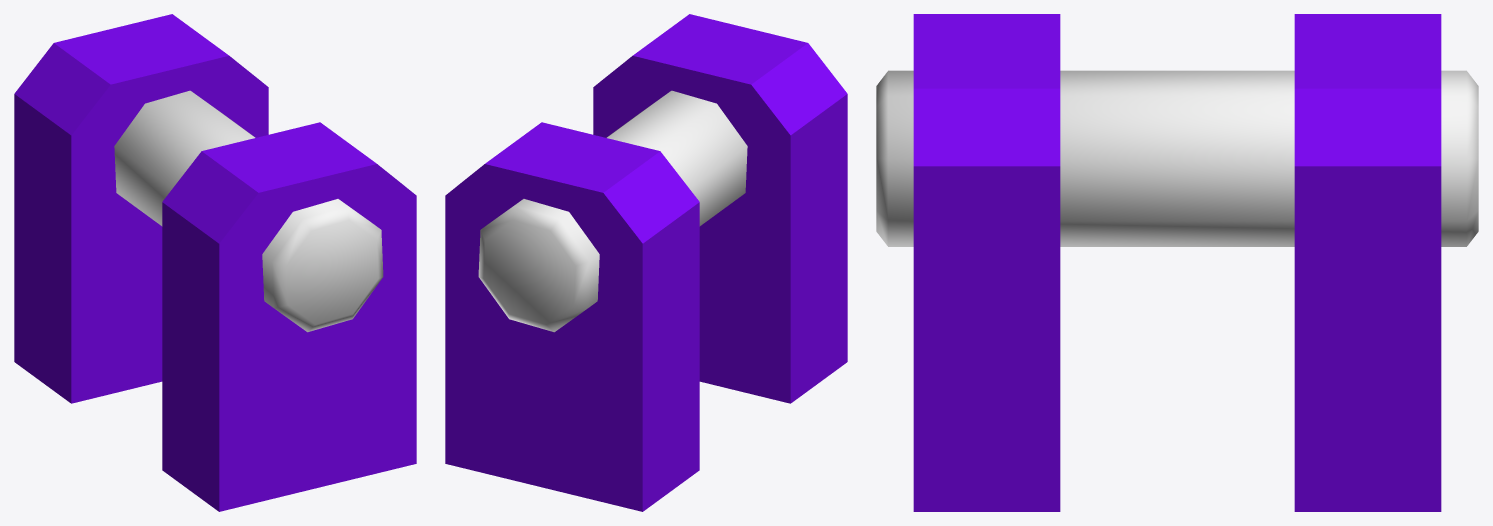
File: Ground_Hammer_Socket_02.fbx
3 renders of one model, left to right at view 1: azimuth 30°, elevation 25°; view 2: azimuth 150°, elevation 25°; view 3: azimuth 270°, elevation 25°, orthographic. The views are drawn at different scales.
Parts seen in each view (by area): view 1: Obstacle_Ground_Hammer_Socket_02; view 2: Obstacle_Ground_Hammer_Socket_02; view 3: Obstacle_Ground_Hammer_Socket_02.
Part boxes in pixels (x1,y1,x2,y2): Obstacle_Ground_Hammer_Socket_02: (14, 14, 416, 511); Obstacle_Ground_Hammer_Socket_02: (445, 14, 847, 511); Obstacle_Ground_Hammer_Socket_02: (876, 14, 1478, 511).
Bounding box in the file's own units: 50 × 74.88 × 102.
Materials: 1 (1 with a texture image).
